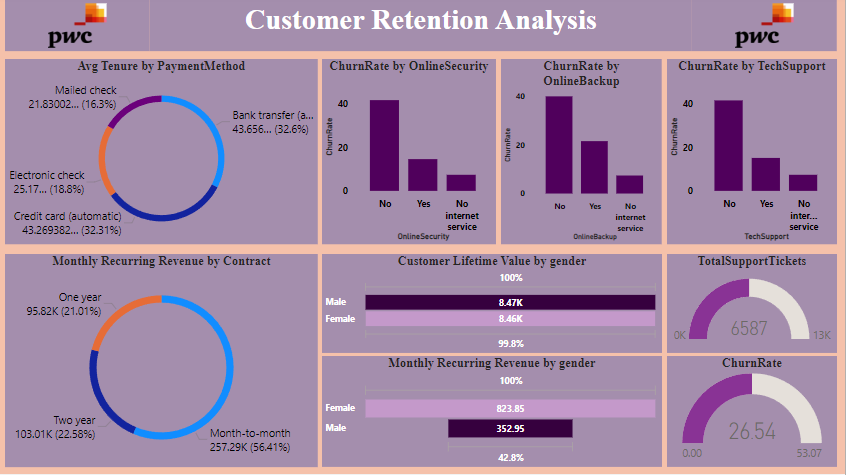

Layout of this report page (visuals, bound fields, positions):
{"tool":"powerbi","page":{"name":"Page 1","canvas":[1280,720],"ordinal":0},"visuals":[{"type":"textbox","box":[233.4,6,816.2,76.8],"z":0},{"type":"image","box":[15.1,6,218.4,76.8],"z":1000},{"type":"gauge","fields":{"Y":["01 Churn-Dataset.ChurnRate"]},"box":[1012,542.1,256,167.2],"z":2000},{"type":"funnel","fields":{"Category":["01 Churn-Dataset.gender"],"Y":["01 Churn-Dataset.Customer Lifetime Value"]},"box":[492.4,388.5,512,149.1],"z":3000},{"type":"donutChart","fields":{"Category":["01 Churn-Dataset.Contract"],"Y":["01 Churn-Dataset.Monthly Recurring Revenue"]},"box":[15.1,388.5,471.3,320.8],"z":4000},{"type":"donutChart","fields":{"Category":["01 Churn-Dataset.PaymentMethod"],"Y":["01 Churn-Dataset.Avg Tenure"]},"box":[15.1,94.9,471.3,278.6],"z":5000},{"type":"lineClusteredColumnComboChart","fields":{"Category":["01 Churn-Dataset.OnlineSecurity"],"Y":["01 Churn-Dataset.ChurnRate"]},"box":[492.4,94.9,262,278.6],"z":6000},{"type":"lineClusteredColumnComboChart","fields":{"Category":["01 Churn-Dataset.TechSupport"],"Y":["01 Churn-Dataset.ChurnRate"]},"box":[1012,94.9,256,278.6],"z":7000},{"type":"lineClusteredColumnComboChart","fields":{"Y":["01 Churn-Dataset.ChurnRate"],"Category":["01 Churn-Dataset.OnlineBackup"]},"box":[762,94.9,242.4,278.6],"z":8000},{"type":"gauge","fields":{"Y":["01 Churn-Dataset.TotalSupportTickets"]},"box":[1012,388.5,256,149.1],"z":9000},{"type":"funnel","fields":{"Category":["01 Churn-Dataset.gender"],"Y":["01 Churn-Dataset.Monthly Recurring Revenue"]},"box":[492.4,542.1,512,167.2],"z":10001},{"type":"image","box":[1049.6,6,218.4,76.8],"z":10002}]}

Visuals, with their boxes in screenshot pixels (x1, y1, x2, y2), scaled from the page's 1280x720 canvas onto the 846x475 screenshot:
textbox: select_region(154, 4, 694, 55)
image: select_region(10, 4, 154, 55)
gauge - 01 Churn-Dataset.ChurnRate: select_region(669, 358, 838, 468)
funnel - 01 Churn-Dataset.gender x 01 Churn-Dataset.Customer Lifetime Value: select_region(325, 256, 664, 355)
donutChart - 01 Churn-Dataset.Contract x 01 Churn-Dataset.Monthly Recurring Revenue: select_region(10, 256, 321, 468)
donutChart - 01 Churn-Dataset.PaymentMethod x 01 Churn-Dataset.Avg Tenure: select_region(10, 63, 321, 246)
lineClusteredColumnComboChart - 01 Churn-Dataset.OnlineSecurity x 01 Churn-Dataset.ChurnRate: select_region(325, 63, 499, 246)
lineClusteredColumnComboChart - 01 Churn-Dataset.TechSupport x 01 Churn-Dataset.ChurnRate: select_region(669, 63, 838, 246)
lineClusteredColumnComboChart - 01 Churn-Dataset.ChurnRate x 01 Churn-Dataset.OnlineBackup: select_region(504, 63, 664, 246)
gauge - 01 Churn-Dataset.TotalSupportTickets: select_region(669, 256, 838, 355)
funnel - 01 Churn-Dataset.gender x 01 Churn-Dataset.Monthly Recurring Revenue: select_region(325, 358, 664, 468)
image: select_region(694, 4, 838, 55)
